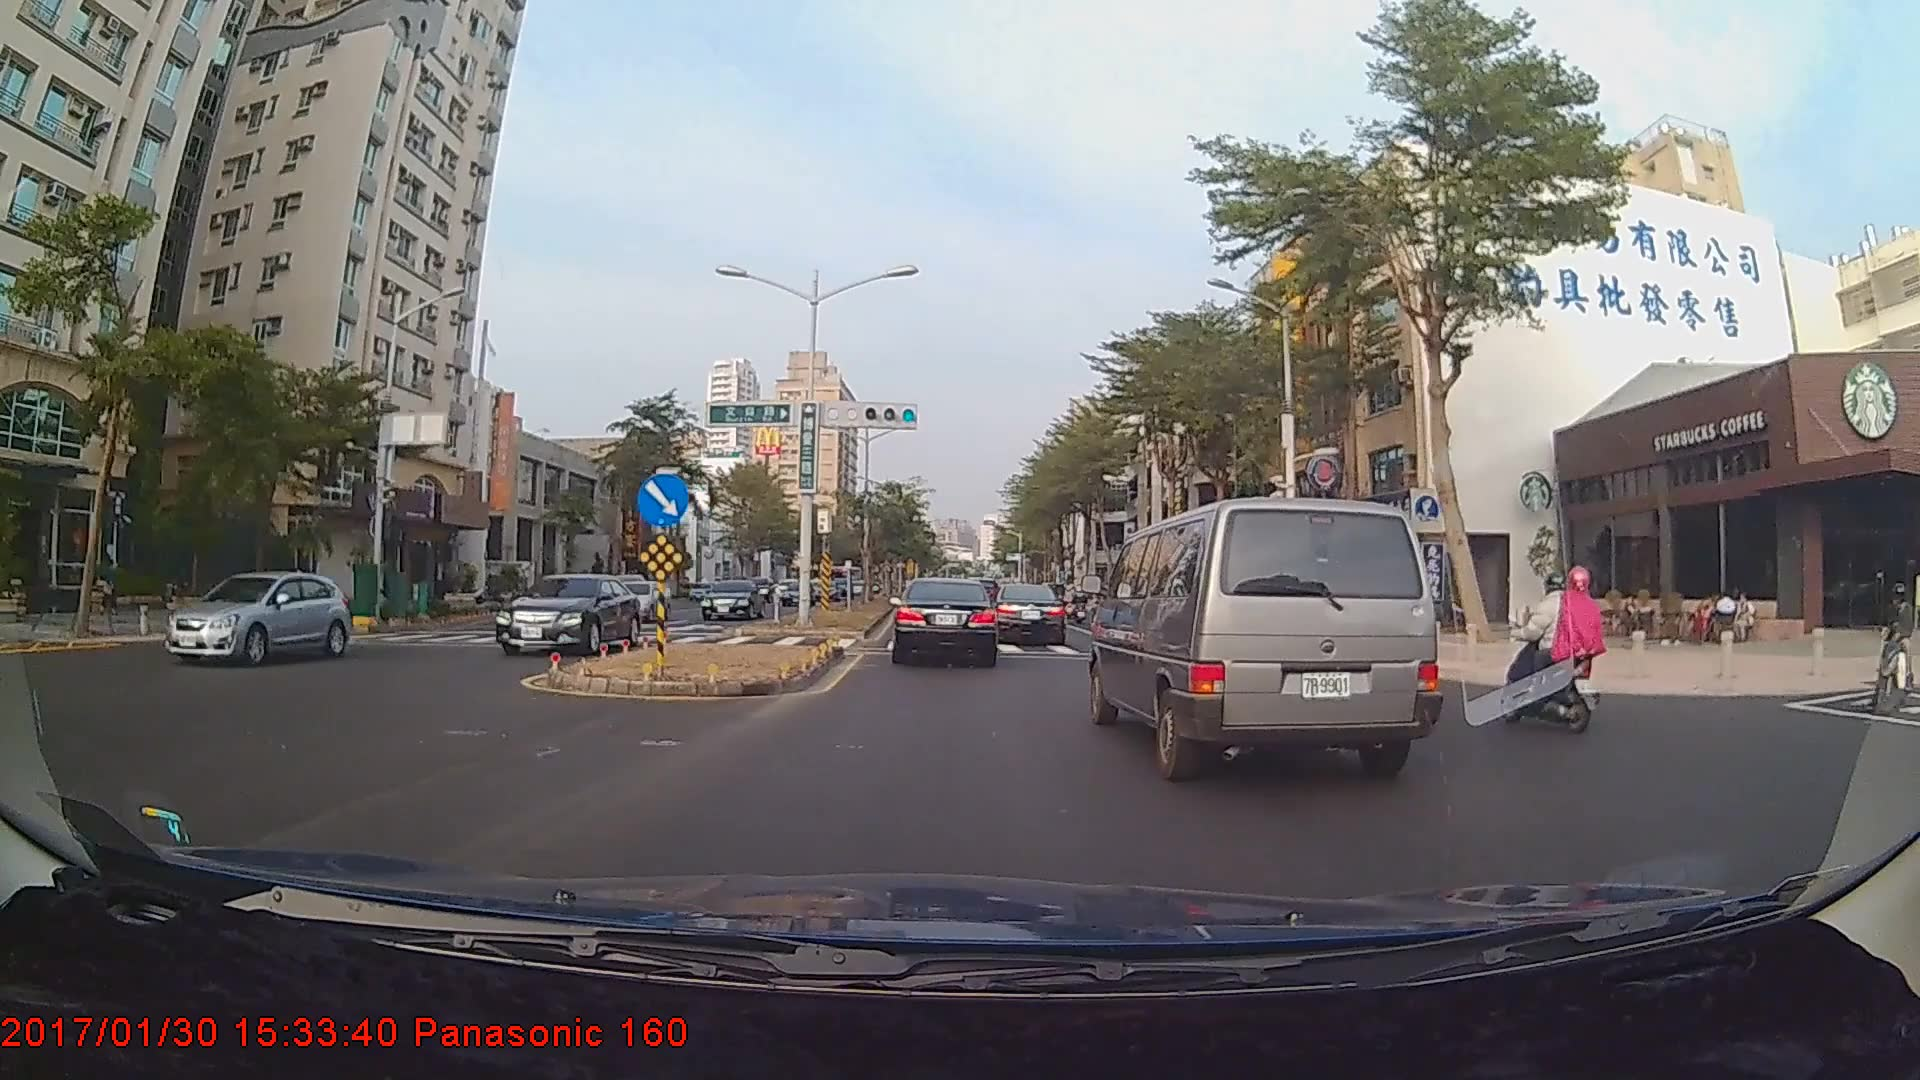rider: (1498, 559, 1618, 738), (1860, 580, 1920, 714)
vehicle: (1094, 490, 1442, 778), (164, 567, 346, 667), (492, 573, 639, 657), (890, 577, 1000, 666), (989, 580, 1066, 648), (697, 577, 762, 621)
